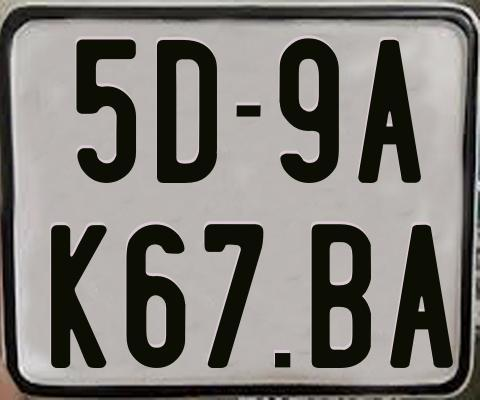5: (73, 39, 134, 185)
6: (126, 224, 188, 372)
7: (204, 223, 268, 367)
9: (277, 37, 343, 184)
A: (357, 37, 420, 186), (389, 225, 453, 370)
B: (308, 221, 368, 366)
D: (157, 39, 221, 187)
K: (51, 224, 107, 367)
